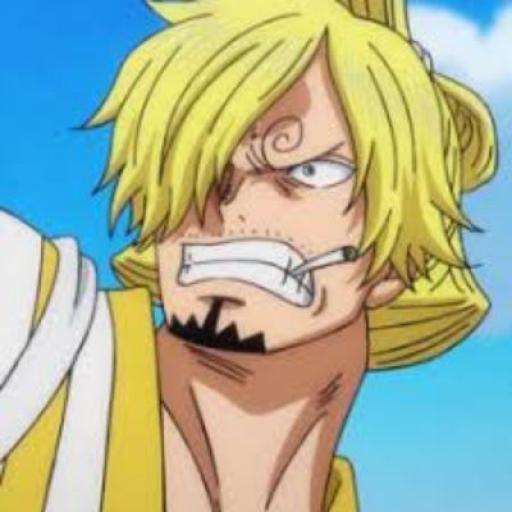sanji: (0, 2, 499, 512)
